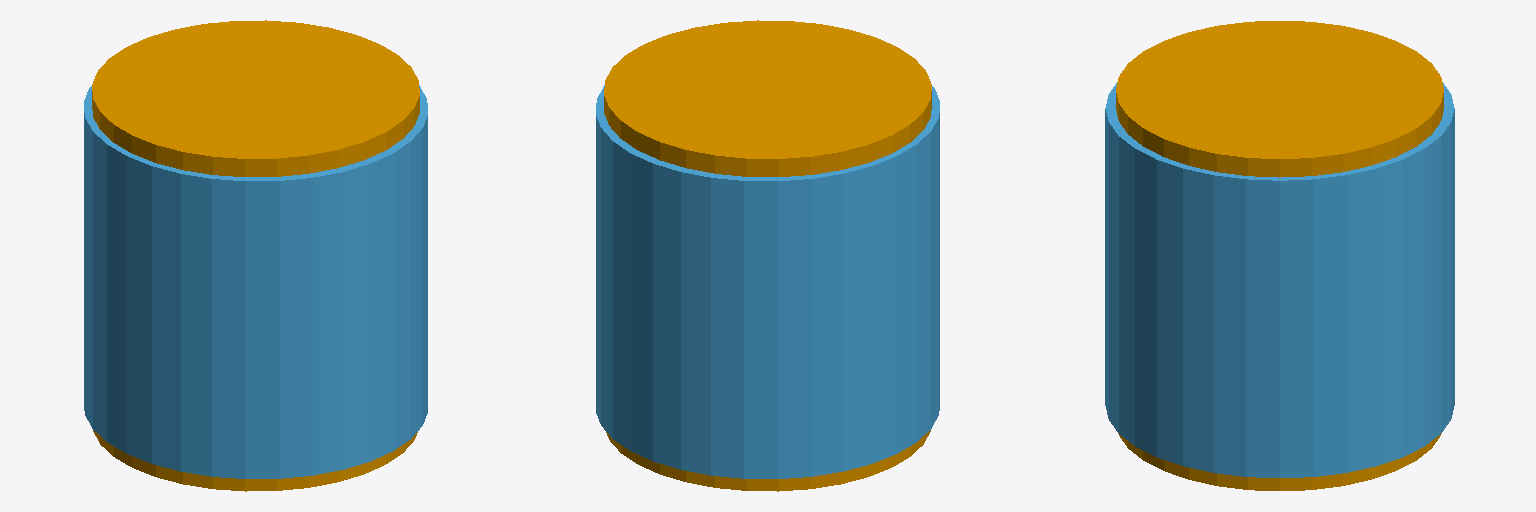
robot.urdf — pineappleCan:
<?xml version="1.0"?>
<robot name="pineappleCan">
  <link name="pine">
    <inertial>
        <origin rpy="0 0 0" xyz="0 0 0"/>
        <mass value="0.01"/>
        <inertia ixx="4.4e-5" ixy="0" ixz="0" iyy="0" iyz="0" izz="4.4e-5"/>
    </inertial>
    <visual>
      <geometry>
        <mesh filename="pineappleCan.obj"/>
      </geometry>
    </visual>
    <collision>
      <geometry>
        <mesh filename="pineappleCan.obj"/>
      </geometry>
      <surface>
           <bounce restitution_coefficient = "0.1"/>
      </surface>
    </collision>
  </link>
  <link name="apple">
    <inertial>
        <origin rpy="0 0 0" xyz="0 0 0"/>
        <mass value="0.001"/>
        <inertia ixx="1.9e-5" ixy="0" ixz="0" iyy="6.8e-6" iyz="0" izz="1.2e-5"/>
    </inertial>
    <visual>
      <geometry>
        <mesh filename="pineappleCanYellow.obj"/>
      </geometry>
    </visual>
    <collision>
      <geometry>
        <mesh filename="pineappleCanYellow.obj"/>
      </geometry>
      <surface>
           <bounce restitution_coefficient = "0.1"/>
      </surface>
    </collision>
  </link>
  <joint name="pine_to_apple" type="fixed">
    <parent link="pine"/>
    <child link="apple"/>
    <origin rpy="0 0 0" xyz="0 0 0"/>
  </joint>
</robot>

--- What the picture shows (computed from the rendered views, not written in the file) ---
Views: 3 orthographic renders of the robot side by side, from view 1: azimuth 30°, elevation 25°; view 2: azimuth 150°, elevation 25°; view 3: azimuth 270°, elevation 25°.
Model pineappleCan with 2 links and 1 joints (1 fixed), rooted at pine, posed every joint at zero.
Links seen in each view (by area): view 1: apple, pine; view 2: apple, pine; view 3: apple, pine.
Boxes of the visible links, bbox=[...] form: apple: bbox=[84, 85, 427, 478]; pine: bbox=[92, 20, 419, 491]; apple: bbox=[596, 85, 939, 478]; pine: bbox=[604, 20, 931, 491]; apple: bbox=[1105, 83, 1454, 477]; pine: bbox=[1116, 21, 1443, 490].
Bounding box of the posed robot: 0.2116 × 0.2149 × 0.2256 m (x, y, z).
Meshes: 2 distinct files referenced, 2 mesh visuals loaded (2 OBJ).
